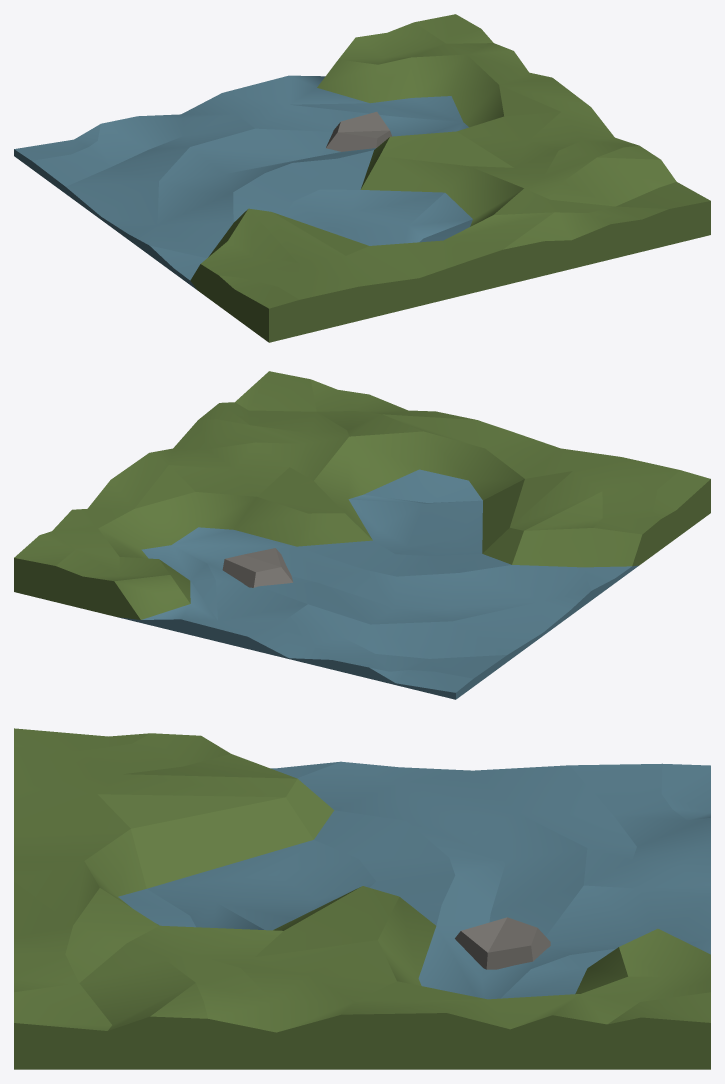
The model's file is Water_Corner_Internal_RB.glb.
3 renders of one model, top to bottom at view 1: azimuth 30°, elevation 25°; view 2: azimuth 150°, elevation 25°; view 3: azimuth 270°, elevation 25°, orthographic. The views are drawn at different scales.
Visible parts, largest first — view 1: Water_Corner_Internal_RB; view 2: Water_Corner_Internal_RB; view 3: Water_Corner_Internal_RB.
Part boxes in pixels (x1,y1,x2,y2): Water_Corner_Internal_RB: (14,14,710,342); Water_Corner_Internal_RB: (14,371,710,699); Water_Corner_Internal_RB: (14,728,710,1069).
Bounding box in the file's own units: 1.47 × 0.1345 × 1.47.
